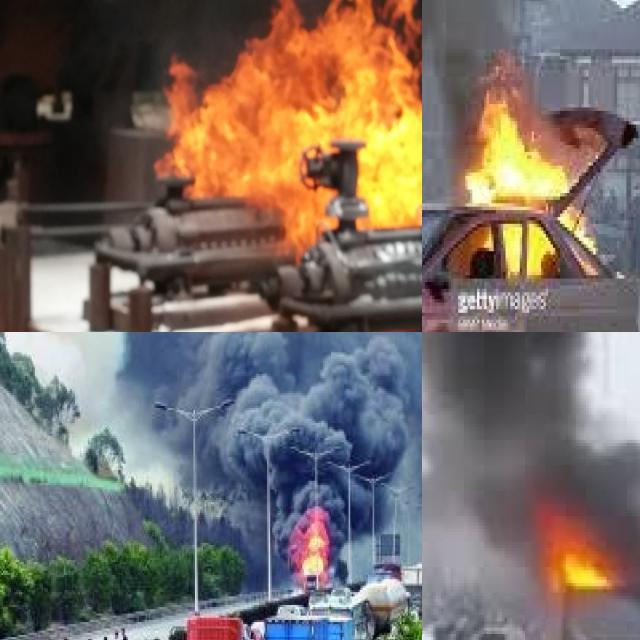fire: (159, 0, 422, 285), (448, 59, 614, 278), (530, 497, 640, 605), (291, 500, 336, 588)
smoke: (116, 332, 422, 528), (422, 332, 604, 513), (422, 0, 503, 124), (611, 439, 640, 583)
